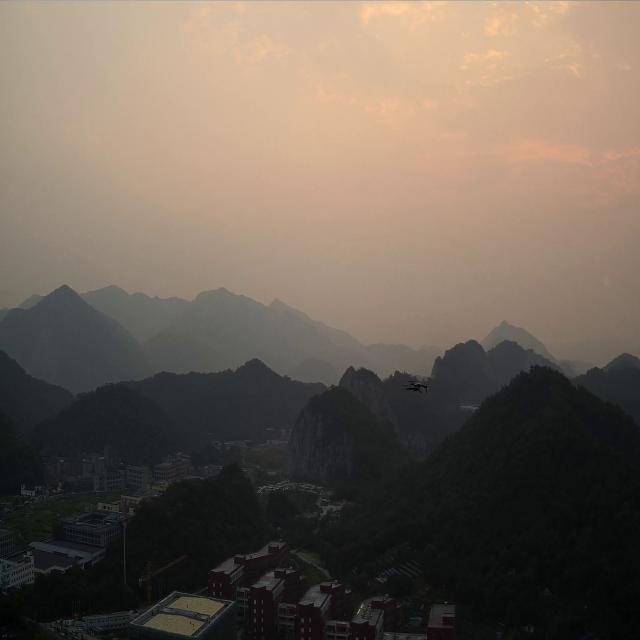UAV: (402, 380, 428, 393)
